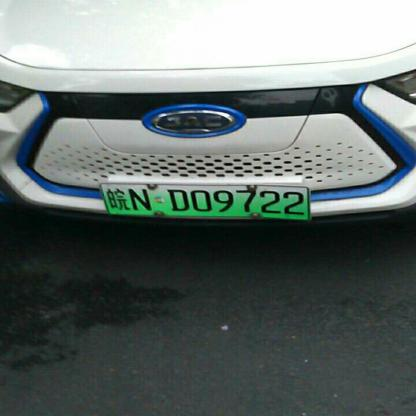lp: (99, 183, 310, 221)
